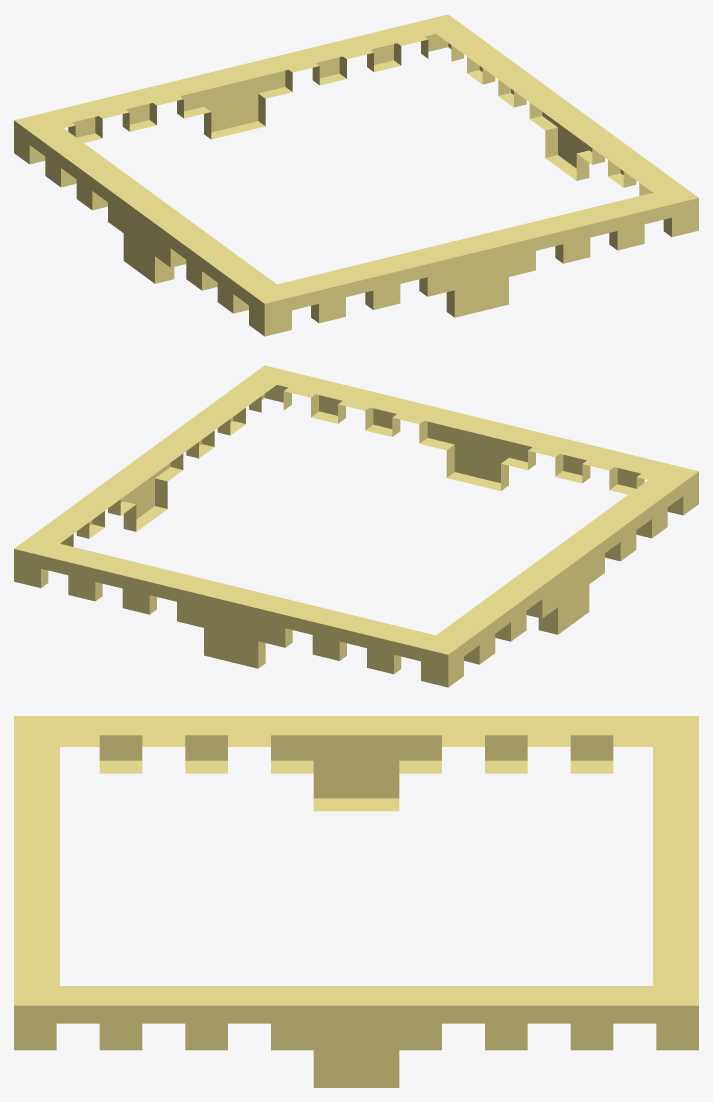
Rendered from tower_decoration_2.FBX.
3 renders of one model, top to bottom at view 1: azimuth 30°, elevation 25°; view 2: azimuth 150°, elevation 25°; view 3: azimuth 270°, elevation 25°, orthographic. The views are drawn at different scales.
Visible parts, largest first — view 1: tower_decoration_2; view 2: tower_decoration_2; view 3: tower_decoration_2.
Boxes of the visible parts, bbox=[...] form: tower_decoration_2: bbox=[14, 14, 698, 336]; tower_decoration_2: bbox=[14, 365, 698, 687]; tower_decoration_2: bbox=[14, 716, 698, 1087].
Size of the model in its own units: 11.19 by 1.49 by 11.19.
